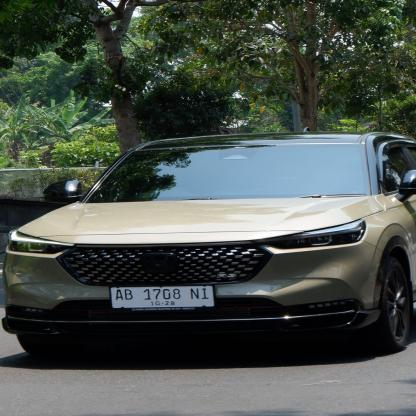Plat-Nomor: (106, 281, 218, 315)
